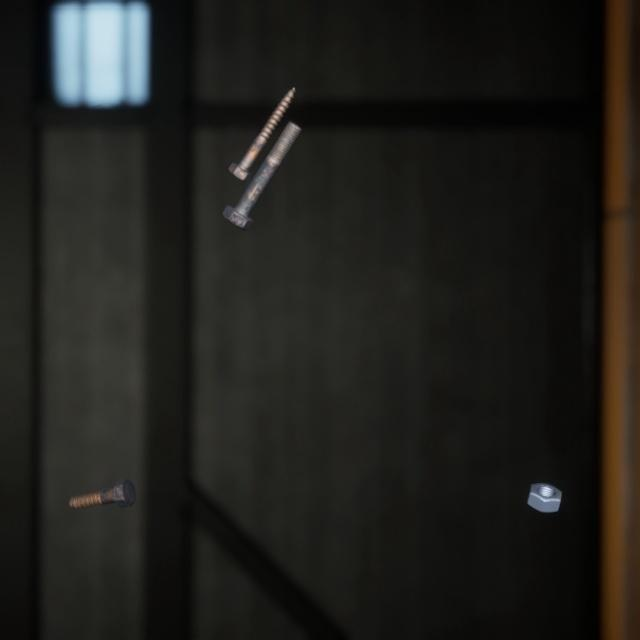bolt: (217, 102, 306, 220), (223, 69, 300, 173), (64, 452, 140, 492)
nut: (522, 457, 566, 495)
